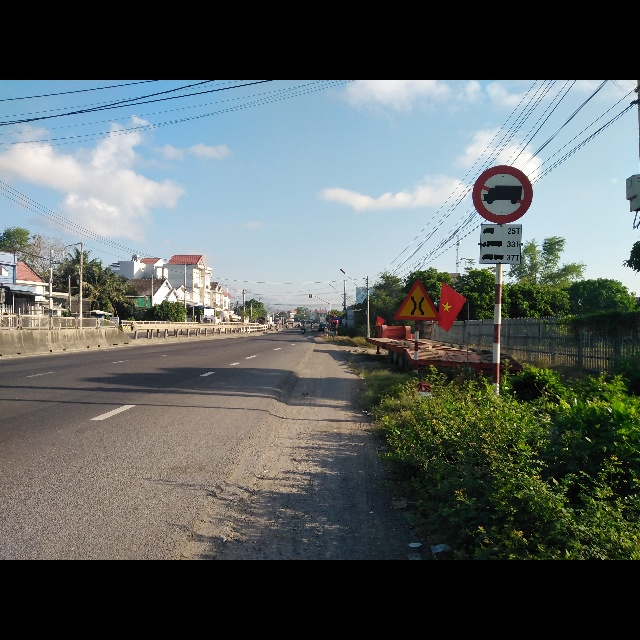Cấm xe tải: (471, 166, 532, 224)
Cầu hẹp: (392, 277, 438, 323)
